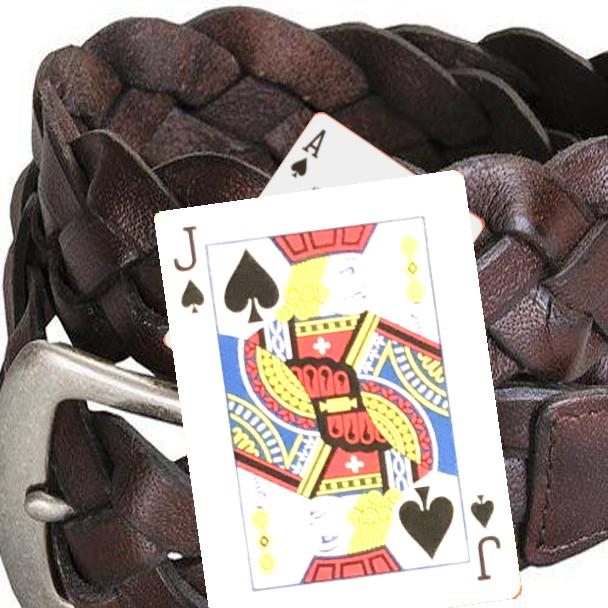s01: (287, 126, 329, 181)
s11: (170, 222, 208, 317), (467, 491, 505, 585)
